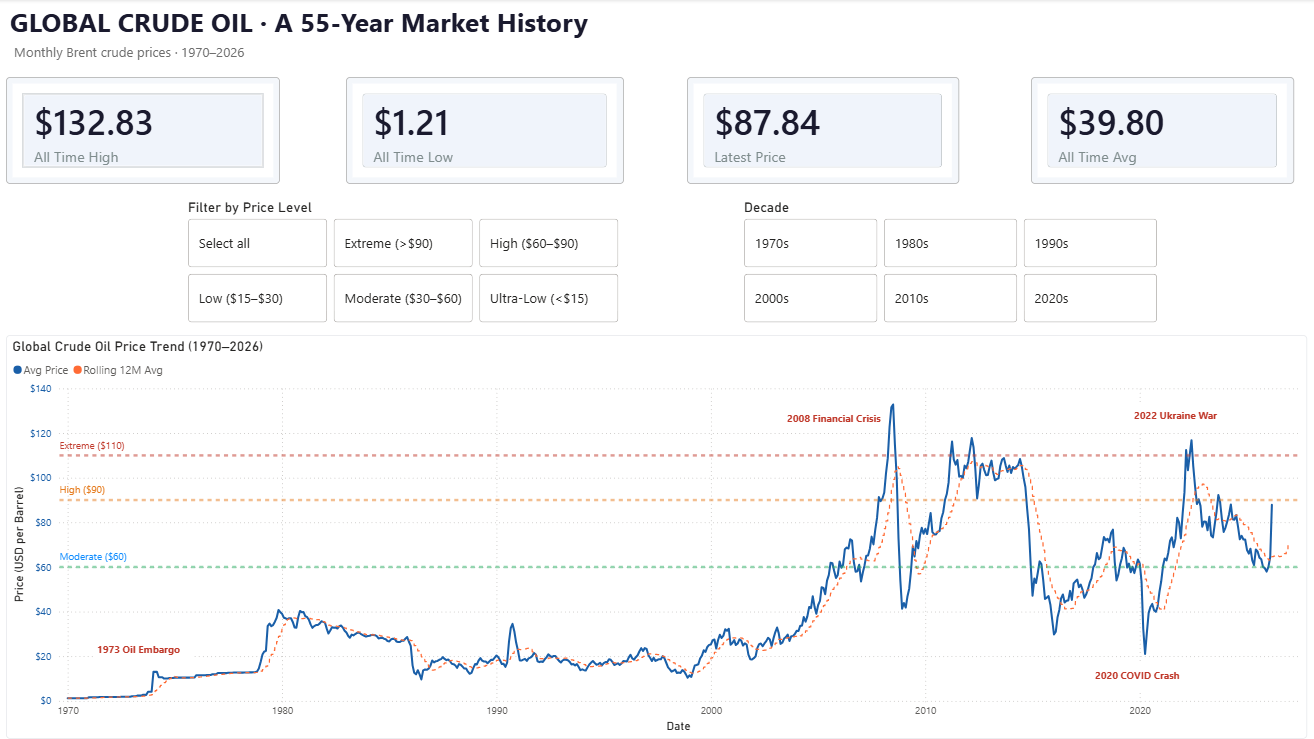

The page's visual inventory and layout, read from the dashboard file:
{"tool":"powerbi","page":{"name":"📊 Price History (1970–2026)","canvas":[1600,900],"ordinal":0},"visuals":[{"type":"textbox","box":[8.5,0,728.3,57.1],"z":0},{"type":"textbox","box":[13.4,48.6,323.4,35.3],"z":1000},{"type":"cardVisual","fields":{"Data":["FuelPrices.All Time High"]},"box":[8.5,94.8,333.1,130.1],"z":2000},{"type":"cardVisual","fields":{"Data":["FuelPrices.All Time Low"]},"box":[421.9,94.8,338,130.1],"z":3000},{"type":"cardVisual","fields":{"Data":["FuelPrices.Latest Price"]},"box":[836.5,94.8,330.7,130.1],"z":4000},{"type":"cardVisual","fields":{"Data":["FuelPrices.All Time Avg"]},"box":[1254.7,94.8,319.8,130.1],"z":5000},{"type":"lineChart","title":"Global Crude Oil Price Trend (1970–2026)","fields":{"Category":["DateTable.Date"],"Y":["FuelPrices.Avg Price","FuelPrices.Rolling 12M Avg"]},"box":[8.5,408.5,1581.8,491.2],"z":6000},{"type":"advancedSlicerVisual","fields":{"Values":["FuelPrices.Decade"]},"box":[900.9,243.2,514.3,156.8],"z":7000},{"type":"advancedSlicerVisual","title":"Filter by Price Level","fields":{"Values":["FuelPrices.Price_Era"]},"box":[224.9,243.2,535,156.8],"z":8000},{"type":"textbox","box":[114.3,775.7,121.6,31.6],"z":9000},{"type":"textbox","box":[953.2,494.8,126.4,29.2],"z":10000},{"type":"textbox","box":[1327.7,807.3,116.7,32.8],"z":11000},{"type":"textbox","box":[1375.1,491.2,116.7,35.3],"z":12000}]}

Visuals, with their boxes in screenshot pixels (x1, y1, x2, y2), scaled from the page's 1600x900 canvas onto the 1314x739 screenshot:
textbox: {"left": 7, "top": 0, "right": 605, "bottom": 47}
textbox: {"left": 11, "top": 40, "right": 277, "bottom": 69}
cardVisual - FuelPrices.All Time High: {"left": 7, "top": 78, "right": 281, "bottom": 185}
cardVisual - FuelPrices.All Time Low: {"left": 346, "top": 78, "right": 624, "bottom": 185}
cardVisual - FuelPrices.Latest Price: {"left": 687, "top": 78, "right": 959, "bottom": 185}
cardVisual - FuelPrices.All Time Avg: {"left": 1030, "top": 78, "right": 1293, "bottom": 185}
"Global Crude Oil Price Trend (1970–2026)" lineChart: {"left": 7, "top": 335, "right": 1306, "bottom": 738}
advancedSlicerVisual - FuelPrices.Decade: {"left": 740, "top": 200, "right": 1162, "bottom": 328}
"Filter by Price Level" advancedSlicerVisual: {"left": 185, "top": 200, "right": 624, "bottom": 328}
textbox: {"left": 94, "top": 637, "right": 194, "bottom": 663}
textbox: {"left": 783, "top": 406, "right": 887, "bottom": 430}
textbox: {"left": 1090, "top": 663, "right": 1186, "bottom": 690}
textbox: {"left": 1129, "top": 403, "right": 1225, "bottom": 432}
